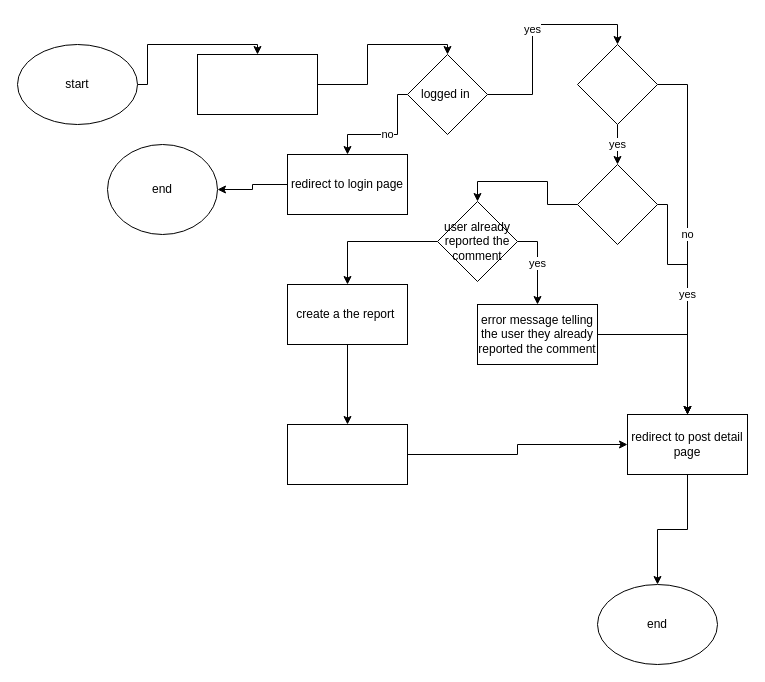
Image size: 765x682. Some labels were removed from this diagram. The shapes that lost their labels are listed below. From the top down, each one's centre as x and y in pixels, then its label:
point 257,84: fetch request and pk
point 617,84: request is post
point 617,204: reason field is empty
point 347,454: show a success mesasge
